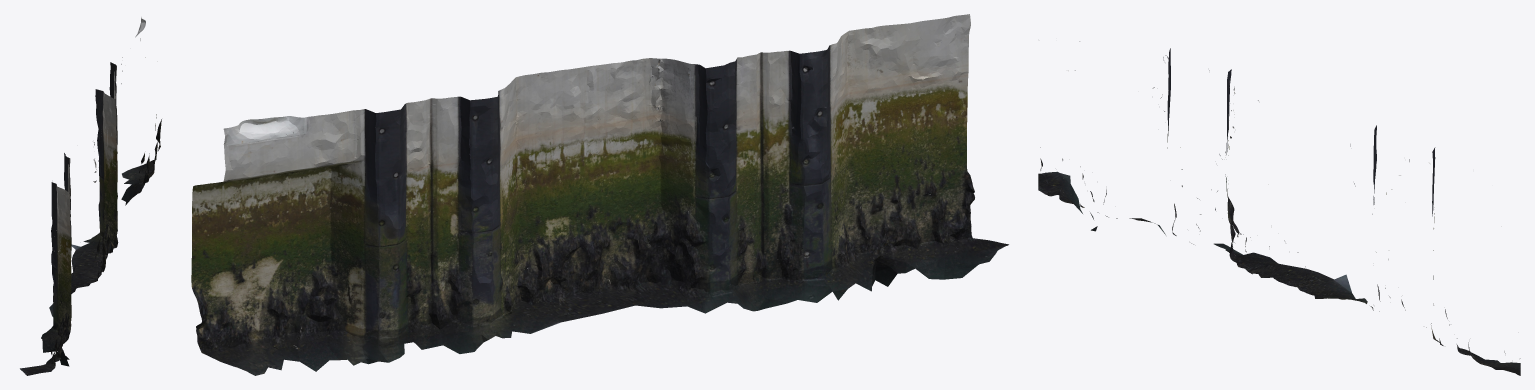
The picture shows the model from 3 angles, left to right: view 1: azimuth 30°, elevation 25°; view 2: azimuth 150°, elevation 25°; view 3: azimuth 270°, elevation 25°; orthographic projection. The views are drawn at different scales.
Size of the model in its own units: 4.08 by 1.97 by 4.18.
Materials: 2 (2 with a texture image).
